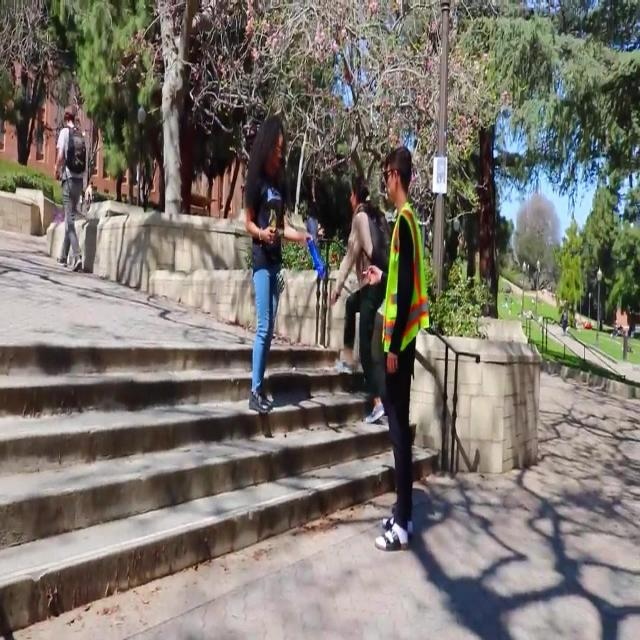Reflective-Jacket: (377, 202, 433, 362)
